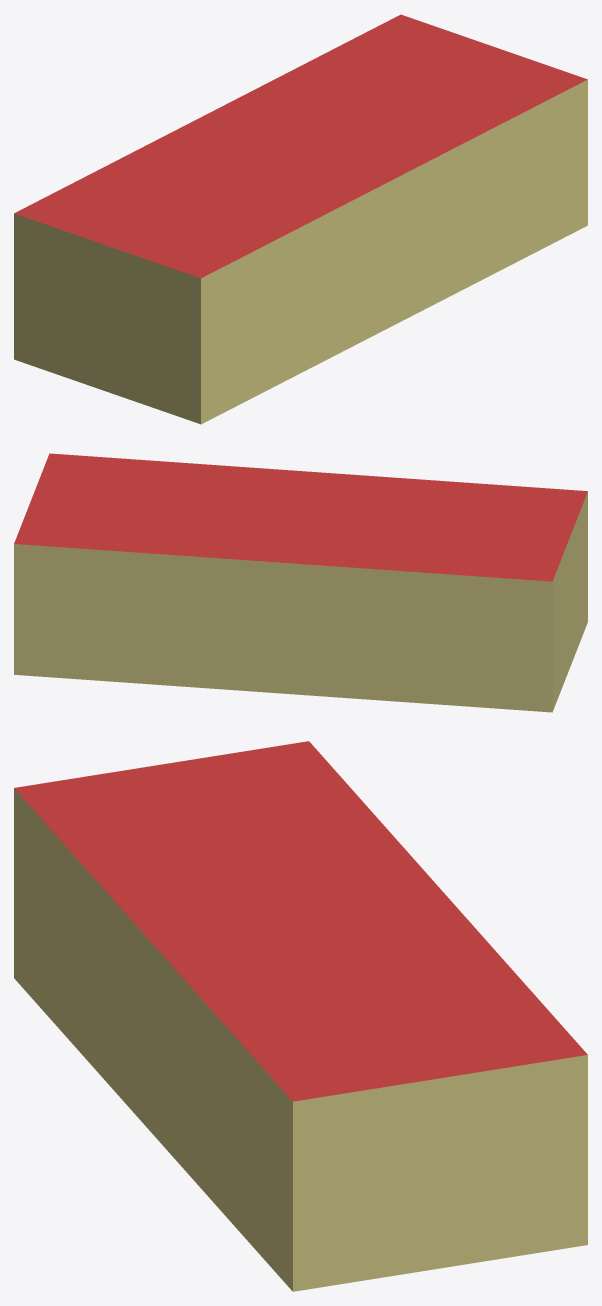
3 renders of one model, top to bottom at view 1: azimuth 30°, elevation 25°; view 2: azimuth 150°, elevation 25°; view 3: azimuth 270°, elevation 25°, orthographic. The views are drawn at different scales.
Parts seen in each view (by area): view 1: group_4, group_3; view 2: group_4, group_3; view 3: group_4, group_3.
Part boxes in pixels (<box>): group_4: <box>14,79,587,424</box>; group_3: <box>14,14,587,278</box>; group_4: <box>14,492,587,712</box>; group_3: <box>14,453,587,581</box>; group_4: <box>14,788,587,1291</box>; group_3: <box>14,741,587,1101</box>.
Bounding box in the file's own units: 24.45 × 16.45 × 6.01.
